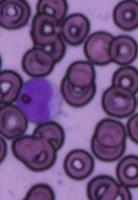M: (14, 75, 62, 124)
